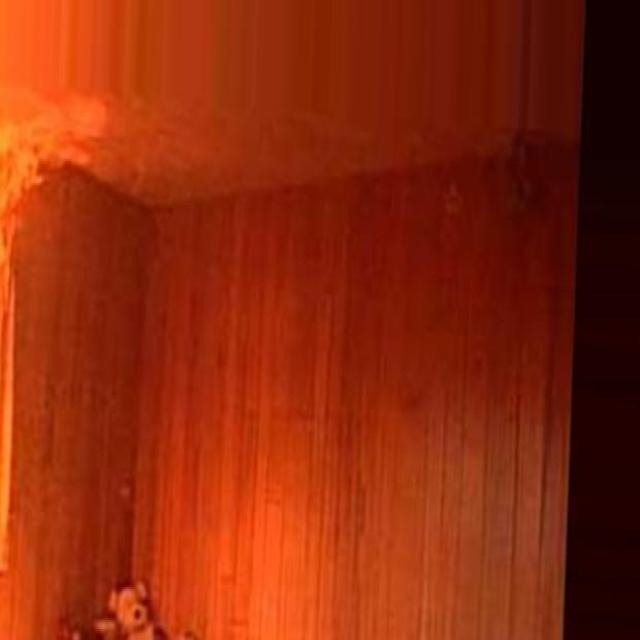fire: (2, 52, 93, 472)
